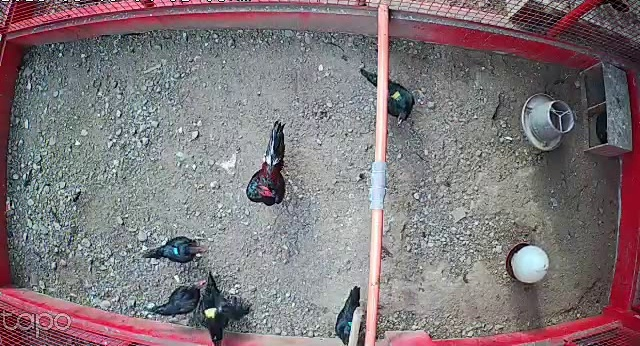Chicken: (188, 265, 255, 346), (358, 67, 414, 130), (145, 278, 206, 319), (141, 232, 204, 267), (334, 284, 368, 346)
Rooster: (246, 121, 295, 209)
Saddle_Color_Blue: (174, 244, 179, 254)
Saddle_Color_Yellow: (204, 307, 217, 318)
Saddle_Color_YellowGreen: (391, 91, 403, 103)
